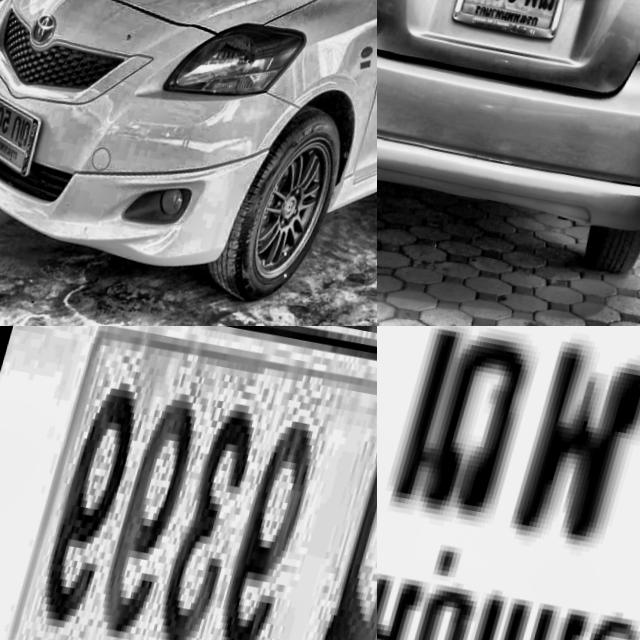license-plate: (0, 326, 377, 640), (377, 326, 640, 640), (0, 76, 66, 186), (448, 0, 583, 50)
